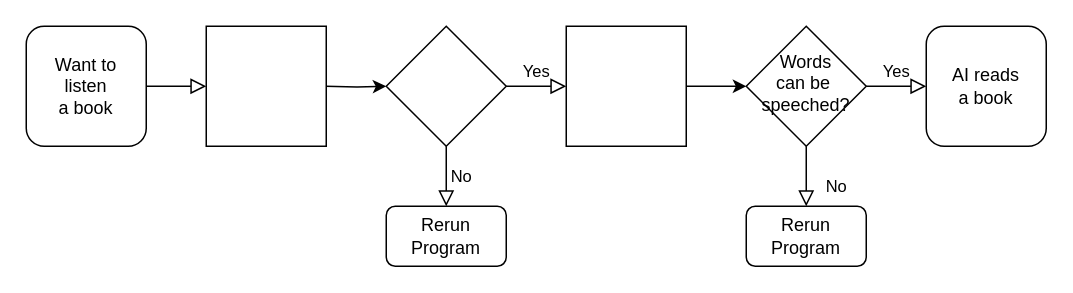
Image size: 1073x293. Some labels were removed from this diagram. Here are the shapes that lost their labels. From the top down, the centre of each, then its label:
pixel 265 85: Run Webcam & Capture book
pixel 445 85: Words exist?
pixel 625 85: Recognize words & Save words in .txt
